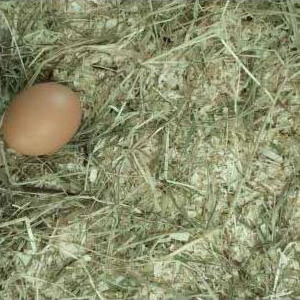egg: (1, 82, 83, 156)
